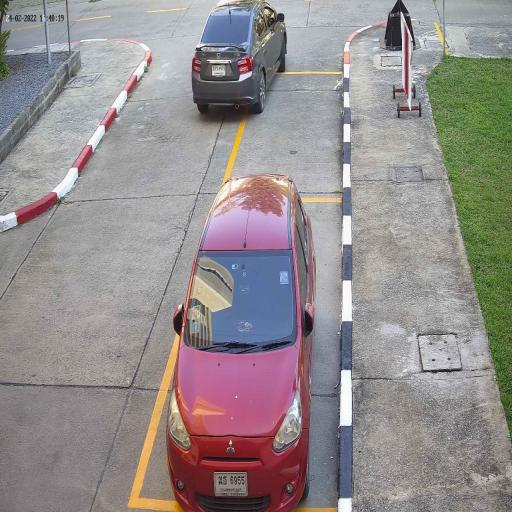car: (165, 172, 316, 512), (191, 0, 287, 113)
